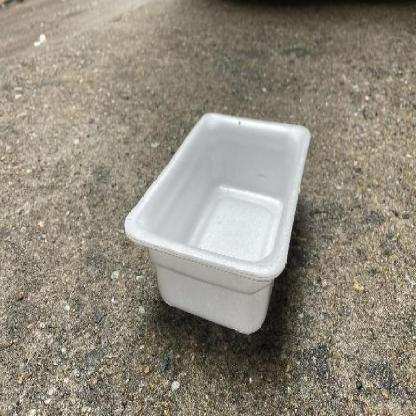Glass Cup: (124, 114, 312, 336), (124, 113, 311, 335)
